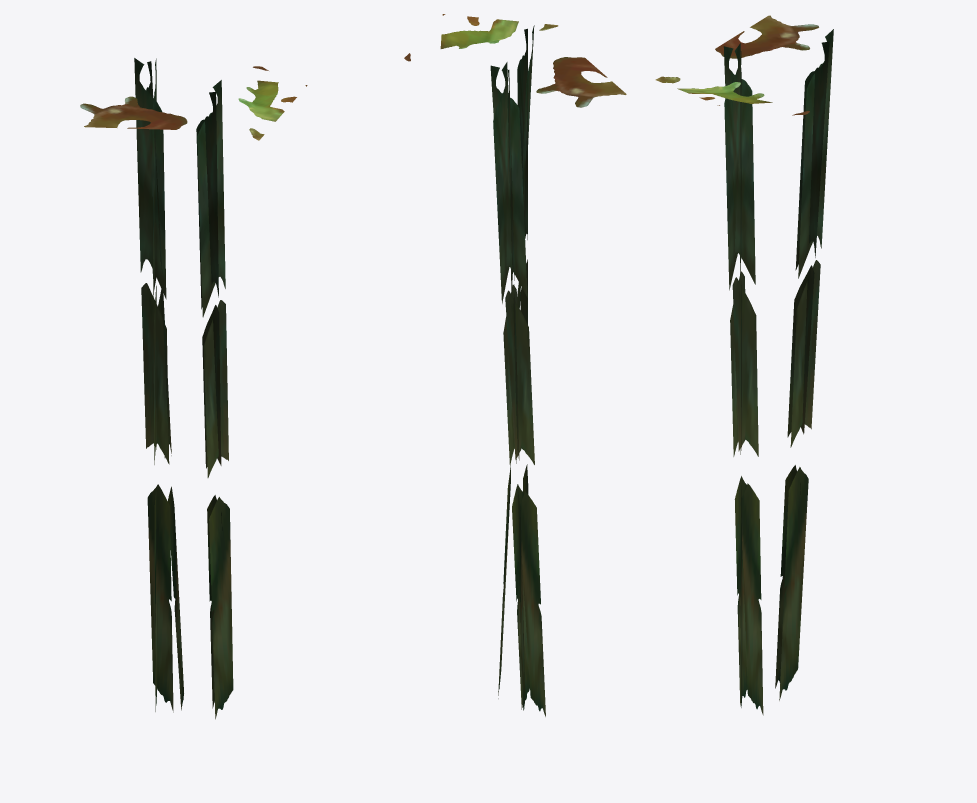
File: stemple_lillypad_blank_03.fbx
3 views of the same model, side by side, from view 1: azimuth 30°, elevation 25°; view 2: azimuth 150°, elevation 25°; view 3: azimuth 270°, elevation 25° (orthographic). The views are drawn at different scales.
Visible parts, largest first — view 1: sunken_tileset/sunken_plants01_mat; view 2: sunken_tileset/sunken_plants01_mat; view 3: sunken_tileset/sunken_plants01_mat.
Boxes of the visible parts, <box> form: sunken_tileset/sunken_plants01_mat: <box>80,58,307,719</box>; sunken_tileset/sunken_plants01_mat: <box>404,14,626,716</box>; sunken_tileset/sunken_plants01_mat: <box>655,15,833,715</box>.
Bounding box in the file's own units: 2.11 × 7.05 × 2.67.
